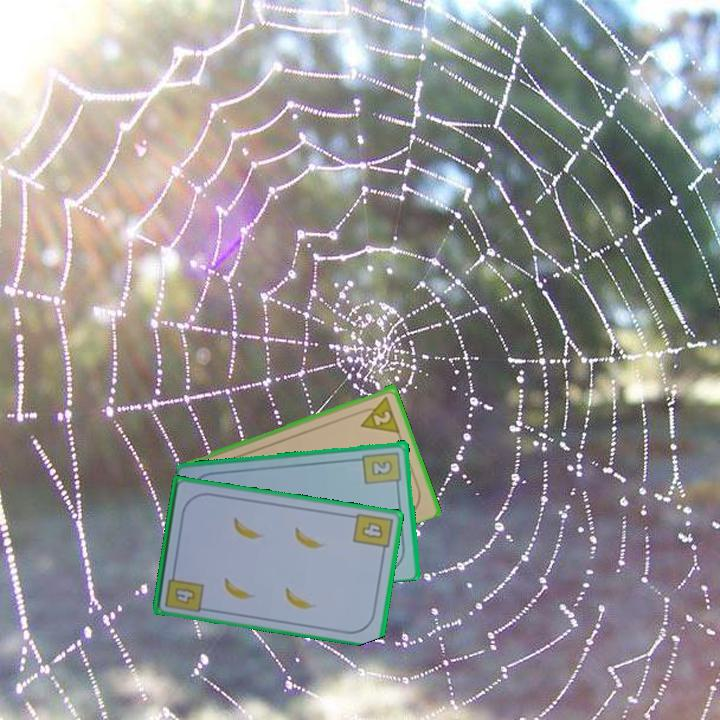2b: (360, 448, 404, 490)
2p: (354, 391, 402, 435)
4b: (161, 566, 206, 615), (350, 509, 395, 557)
